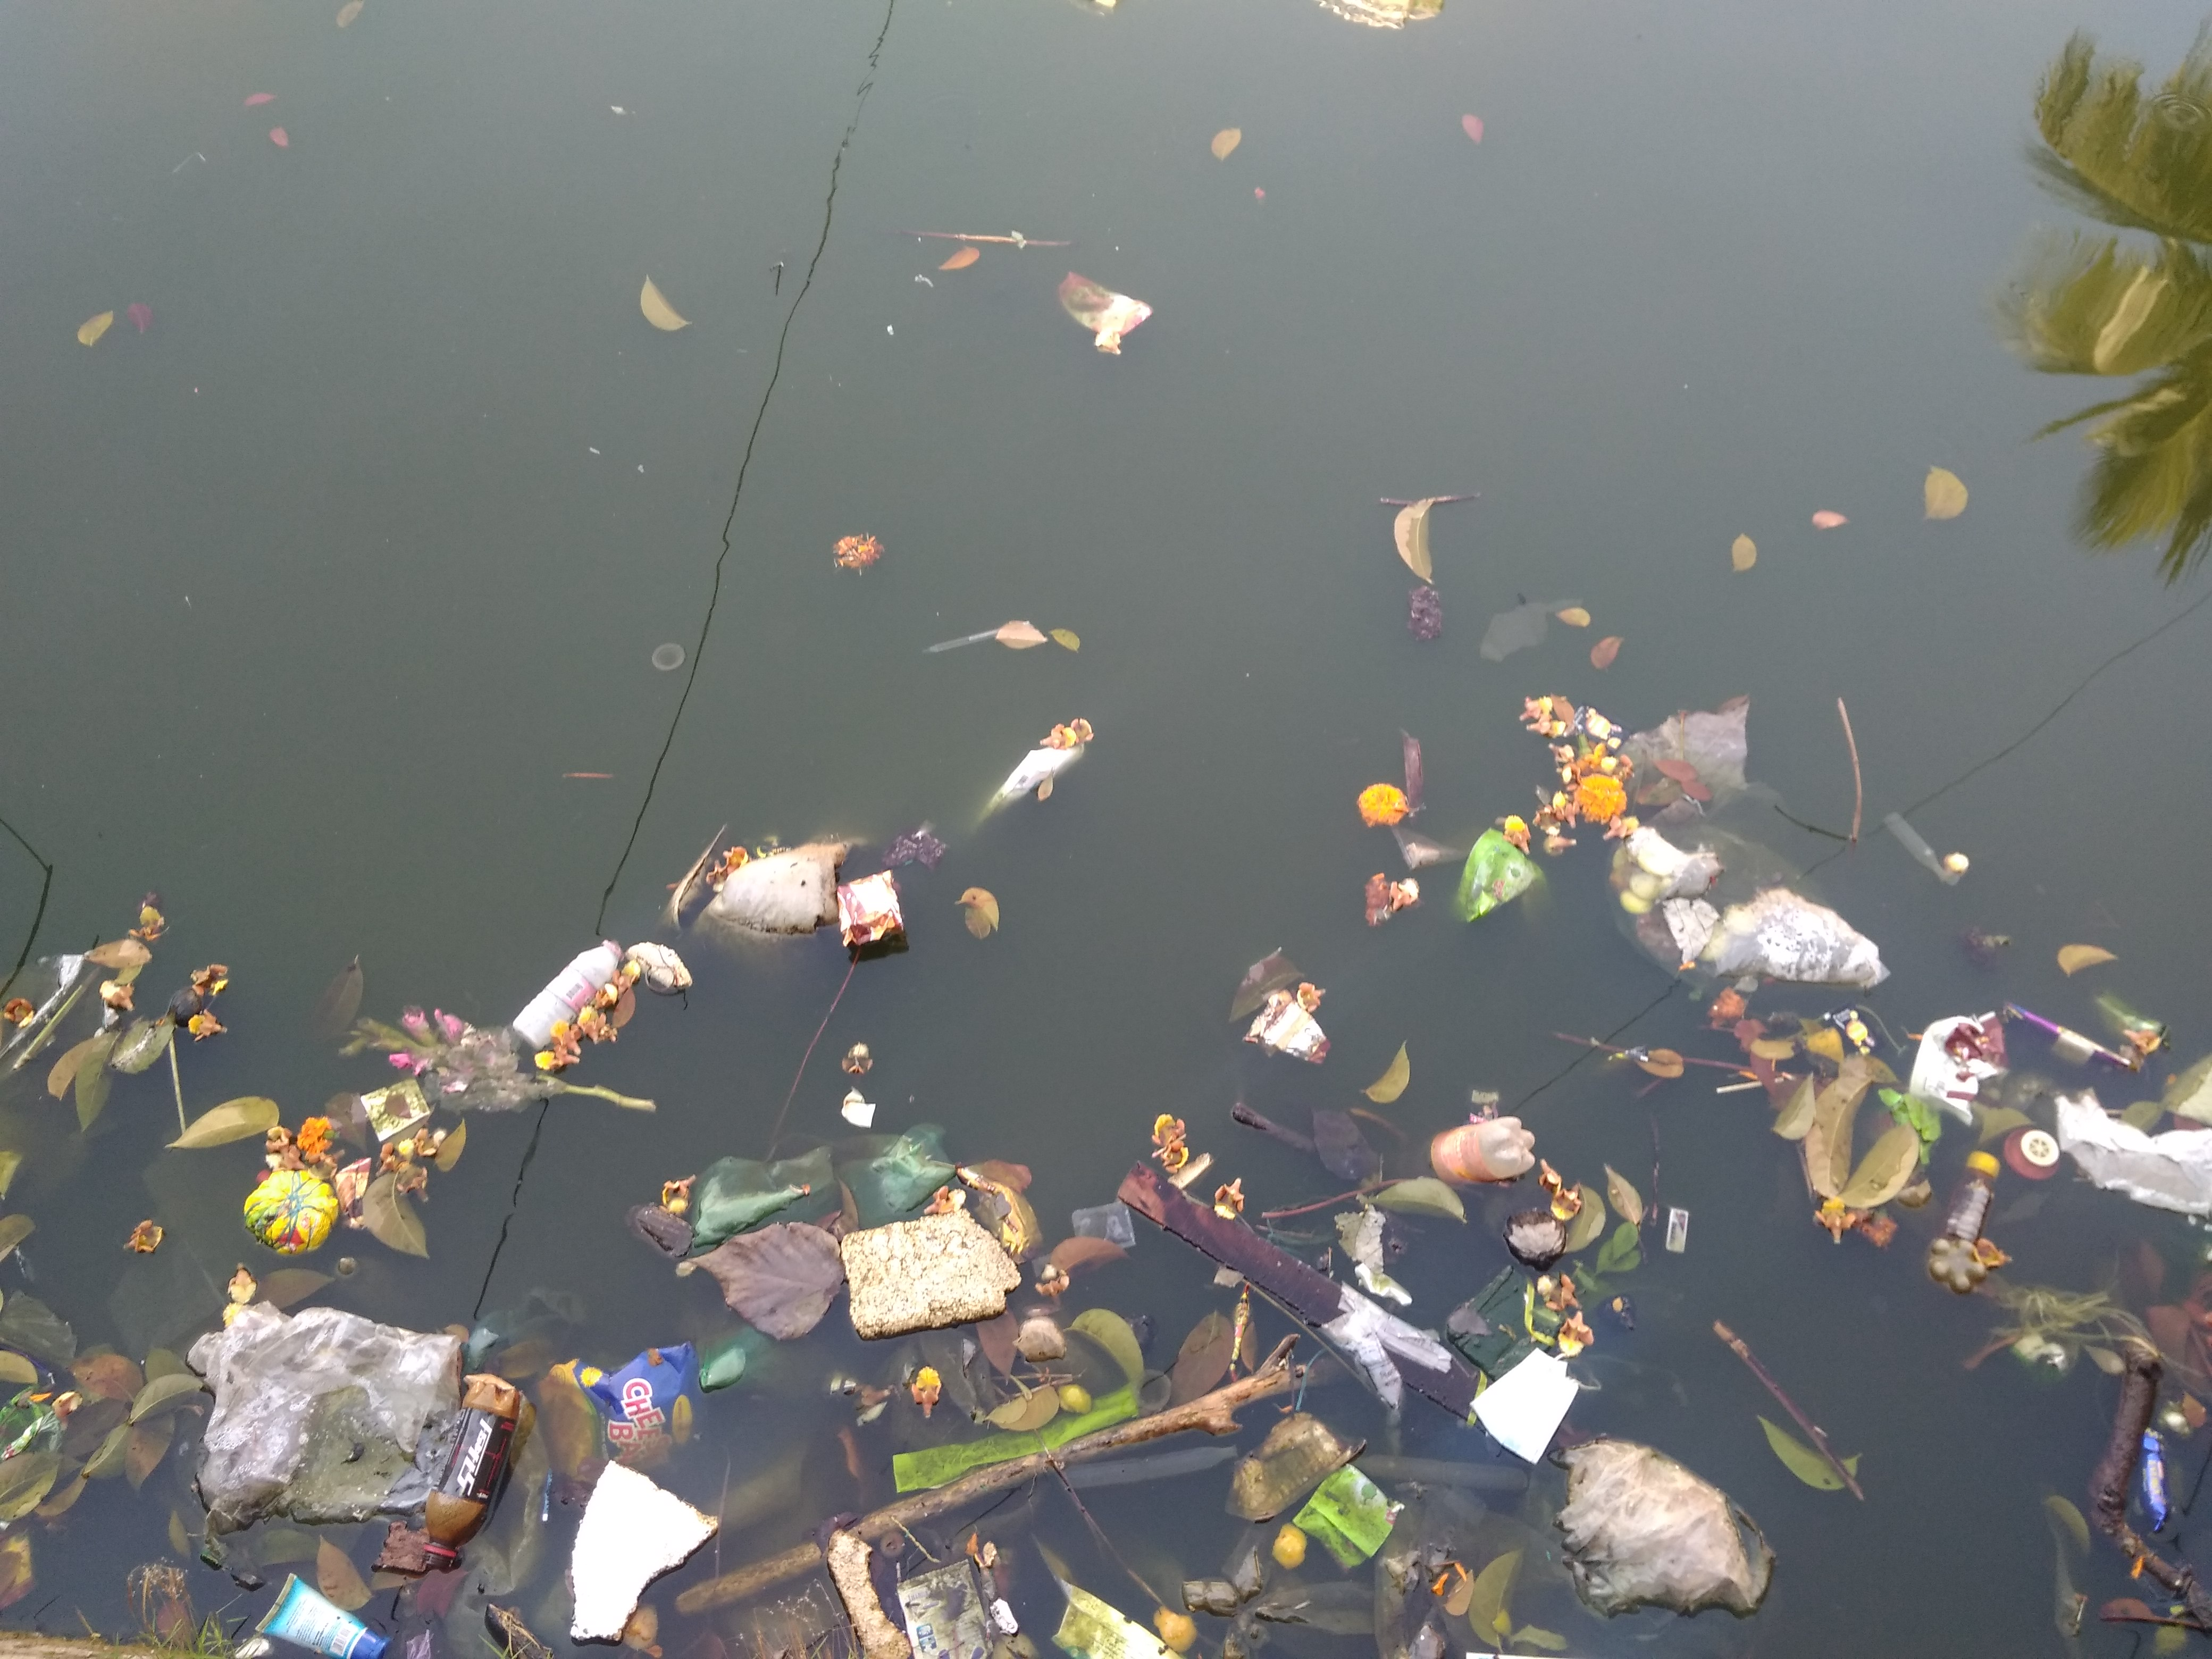Plastic Bottle: (423, 1382, 521, 1568), (510, 938, 622, 1051), (1426, 1115, 1534, 1183), (1940, 1148, 2000, 1241), (1926, 1237, 1986, 1295)
